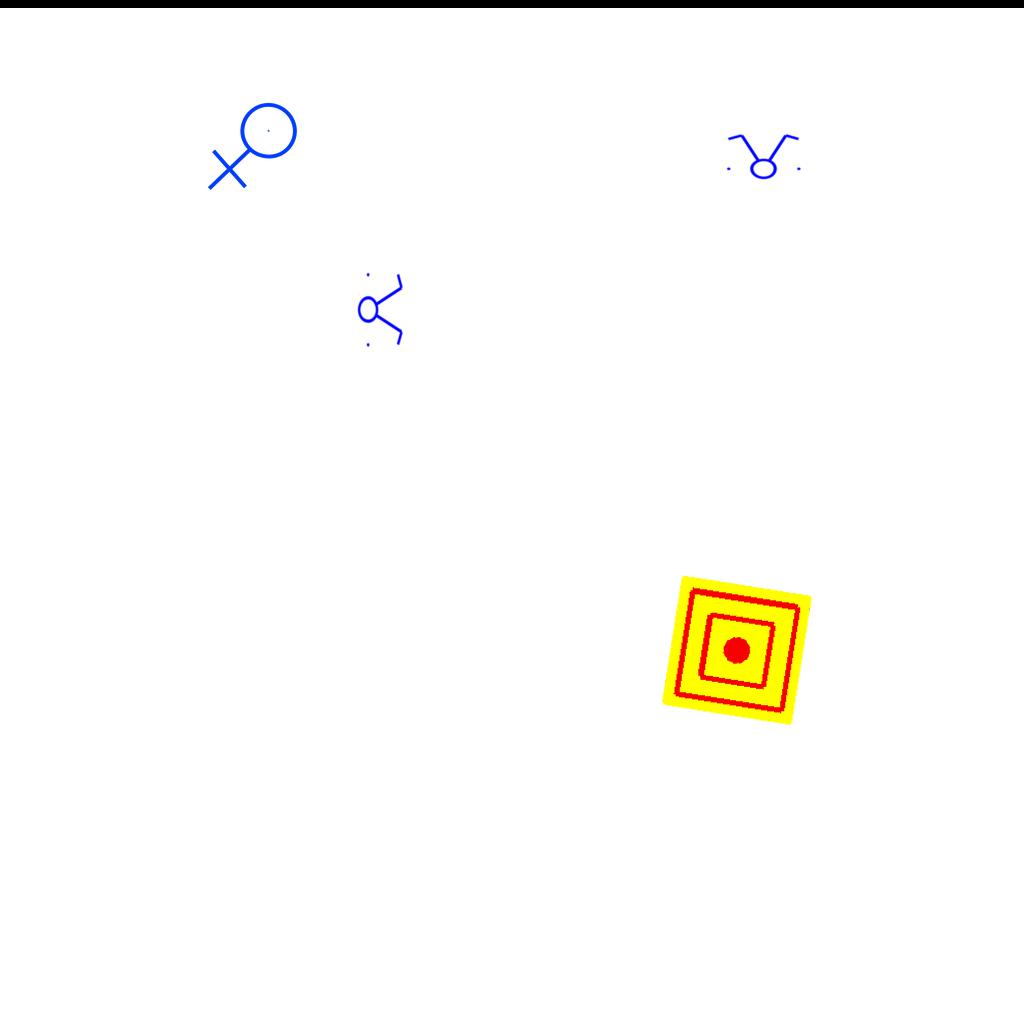Elektroanschluss_allgemein_230V_Geraeteanschlussdose_230V: (207, 101, 306, 195)
NAM-Nichtautomatischer_Melder: (661, 574, 813, 726)
Serienschalter: (721, 132, 805, 180), (357, 267, 405, 351)
